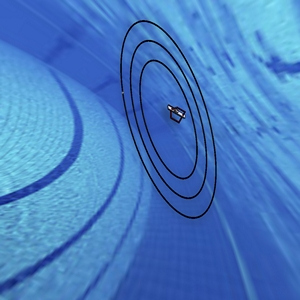circle: (109, 13, 232, 228)
submarine: (157, 97, 192, 136)
